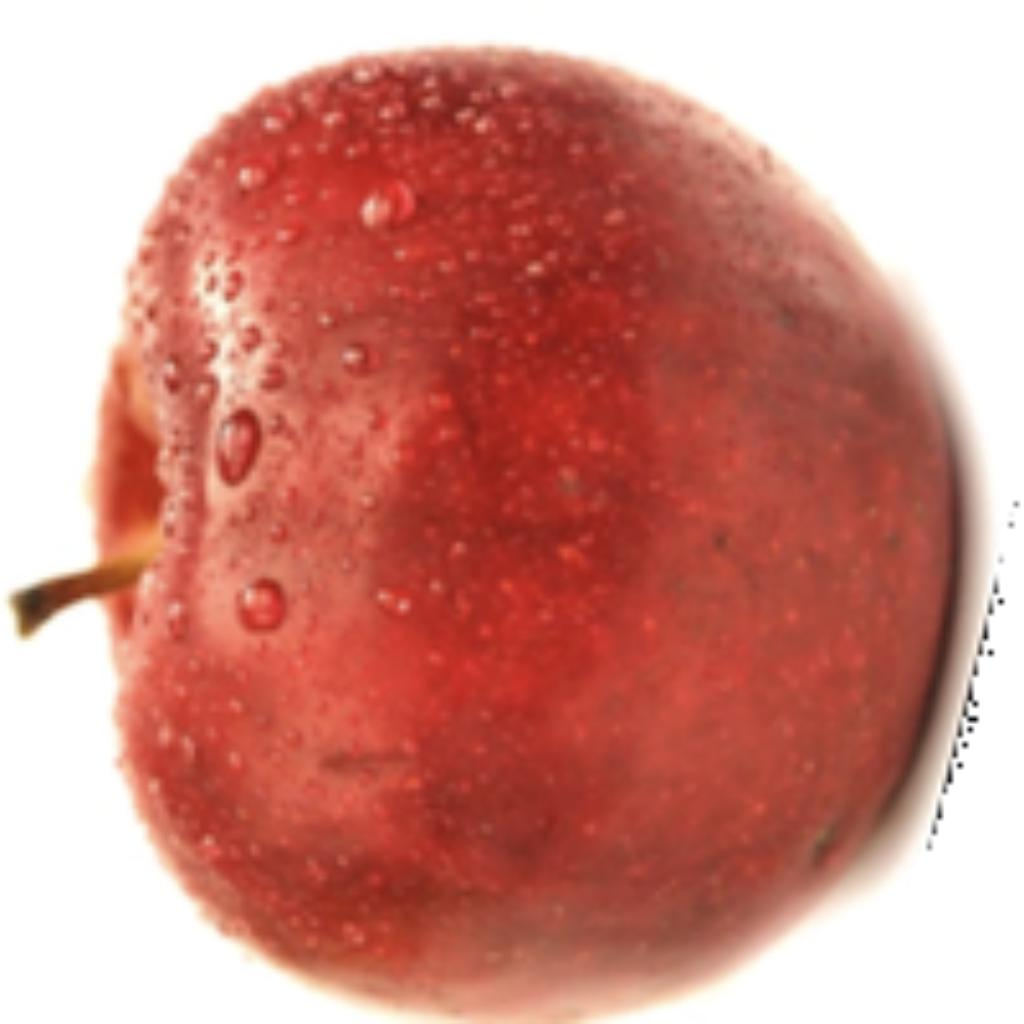apple: (0, 36, 1005, 1019)
